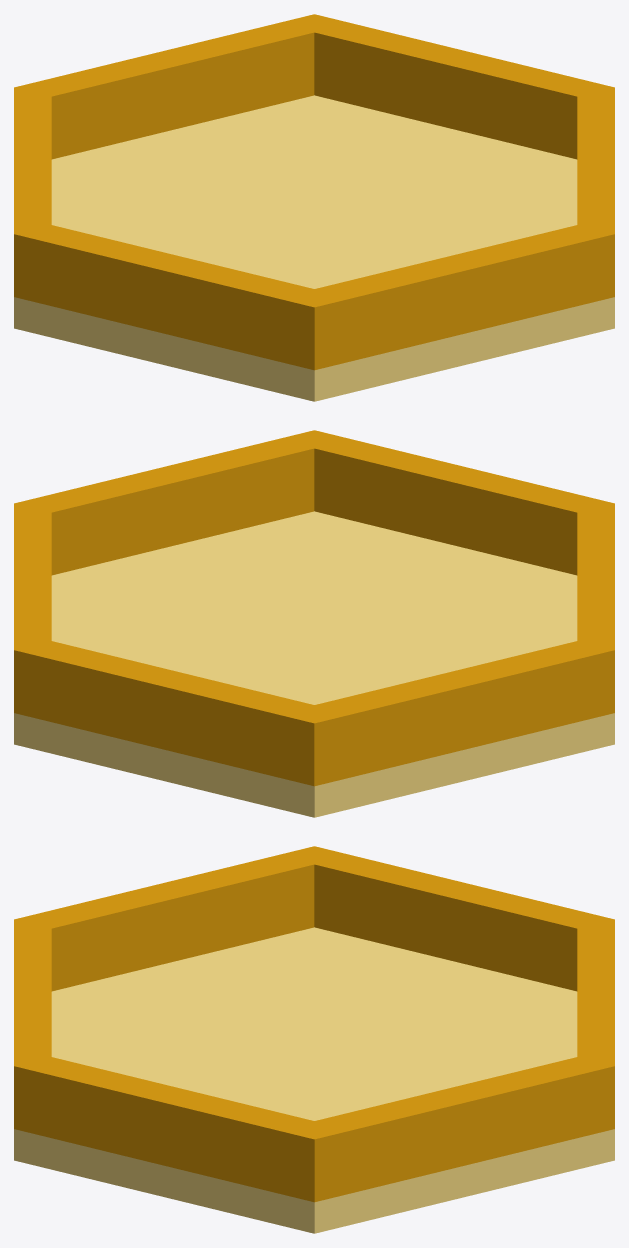
Rendered from hive.fbx.
The picture shows the model from 3 angles, top to bottom: view 1: azimuth 30°, elevation 25°; view 2: azimuth 150°, elevation 25°; view 3: azimuth 270°, elevation 25°; orthographic projection.
Visible parts, largest first — view 1: Hive, Entrance_S, Entrance_SW, Entrance_NE, Entrance_N, Corner_SW, Corner_NE, Corner_SE, Corner_W, Corner_E, Corner_NW, Entrance_NW (+1 smaller); view 2: Hive, Entrance_NW, Entrance_N, Entrance_S, Entrance_SE, Corner_NW, Corner_SE, Corner_NE, Corner_W, Corner_E, Corner_SW, Entrance_NE (+1 smaller); view 3: Hive, Entrance_NE, Entrance_SE, Entrance_NW, Entrance_SW, Corner_E, Corner_W, Corner_NE, Corner_SE, Corner_NW, Corner_SW, Entrance_S (+1 smaller).
Part boxes in pixels (<box>): Hive: <box>14,95,614,401</box>; Entrance_S: <box>371,239,539,351</box>; Entrance_SW: <box>89,239,257,351</box>; Entrance_NE: <box>371,32,539,145</box>; Entrance_N: <box>89,32,257,145</box>; Corner_SW: <box>239,275,389,370</box>; Corner_NE: <box>239,14,389,108</box>; Corner_SE: <box>521,197,614,315</box>; Corner_W: <box>14,197,107,315</box>; Corner_E: <box>521,69,614,159</box>; Corner_NW: <box>14,69,107,159</box>; Entrance_NW: <box>14,124,51,197</box>; Hive: <box>14,511,614,817</box>; Entrance_NW: <box>371,655,539,767</box>; Entrance_N: <box>89,655,257,767</box>; Entrance_S: <box>371,448,539,561</box>; Entrance_SE: <box>89,448,257,561</box>; Corner_NW: <box>239,691,389,786</box>; Corner_SE: <box>239,430,389,524</box>; Corner_NE: <box>14,613,107,731</box>; Corner_W: <box>521,613,614,731</box>; Corner_E: <box>14,485,107,575</box>; Corner_SW: <box>521,485,614,575</box>; Entrance_NE: <box>14,540,51,613</box>; Hive: <box>14,927,614,1233</box>; Entrance_NE: <box>371,1071,539,1183</box>; Entrance_SE: <box>89,1071,257,1183</box>; Entrance_NW: <box>371,864,539,977</box>; Entrance_SW: <box>89,864,257,977</box>; Corner_E: <box>239,1107,389,1202</box>; Corner_W: <box>239,846,389,940</box>; Corner_NE: <box>521,1029,614,1147</box>; Corner_SE: <box>14,1029,107,1147</box>; Corner_NW: <box>521,901,614,991</box>; Corner_SW: <box>14,901,107,991</box>; Entrance_S: <box>14,956,51,1029</box>.
Size of the model in its own units: 100 by 15 by 86.6.
